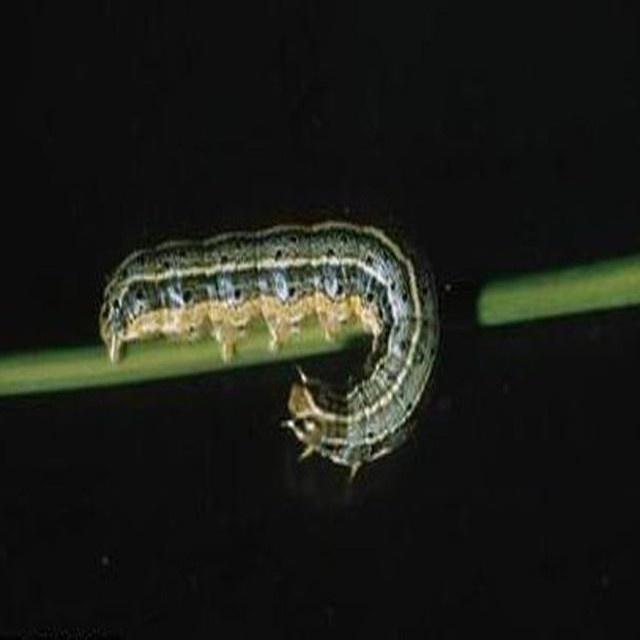gusano_cogollero: (94, 209, 445, 479)
